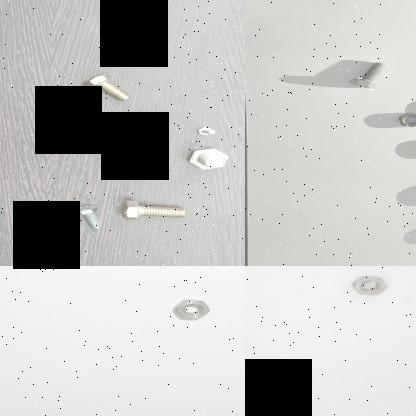Bolts: (118, 194, 190, 224), (78, 71, 136, 102), (187, 144, 231, 173), (346, 60, 388, 90), (72, 201, 104, 231), (35, 128, 72, 147), (196, 126, 220, 138), (116, 132, 136, 142)
NUTS: (348, 272, 394, 302), (170, 298, 214, 323), (394, 111, 416, 131)
